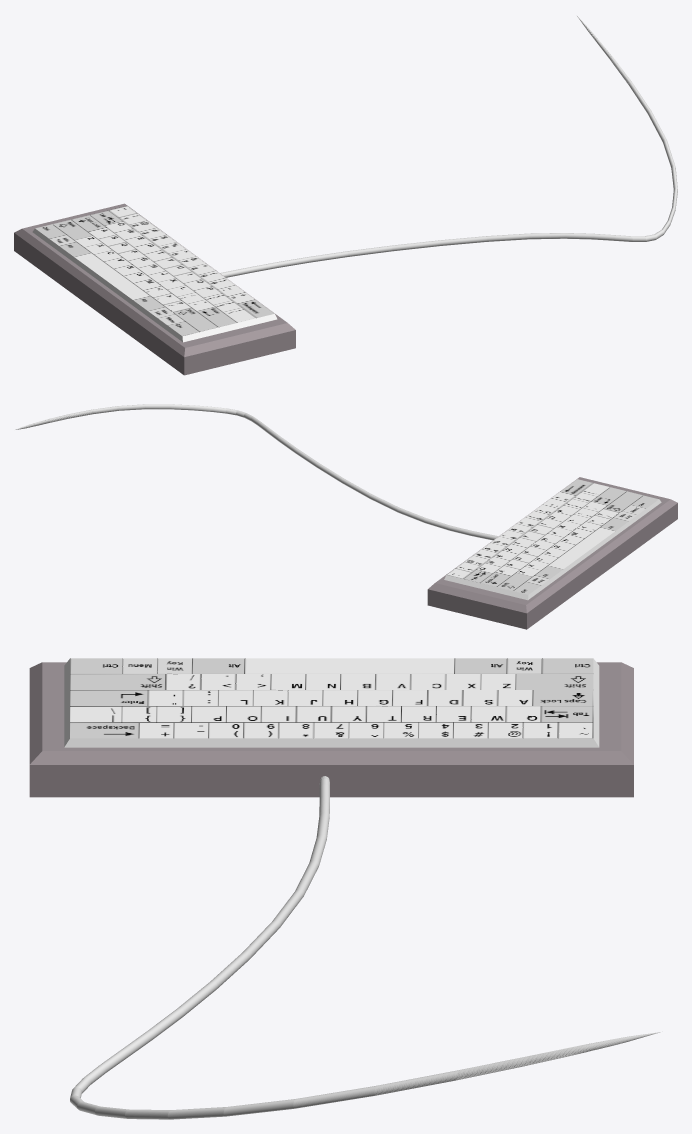
File: Keyboard.fbx
The picture shows the model from 3 angles, top to bottom: view 1: azimuth 30°, elevation 25°; view 2: azimuth 150°, elevation 25°; view 3: azimuth 270°, elevation 25°; orthographic projection. The views are drawn at different scales.
Parts seen in each view (by area): view 1: Cube, Cable; view 2: Cube, Cable; view 3: Cube, Cable.
Part boxes in pixels (x1,y1,x2,y2): Cube: (14,203,295,375); Cable: (220,15,677,277); Cube: (427,477,677,629); Cable: (15,404,498,540); Cube: (29,658,633,797); Cable: (70,776,660,1119).
Size of the model in its own units: 387 by 59.33 by 209.
